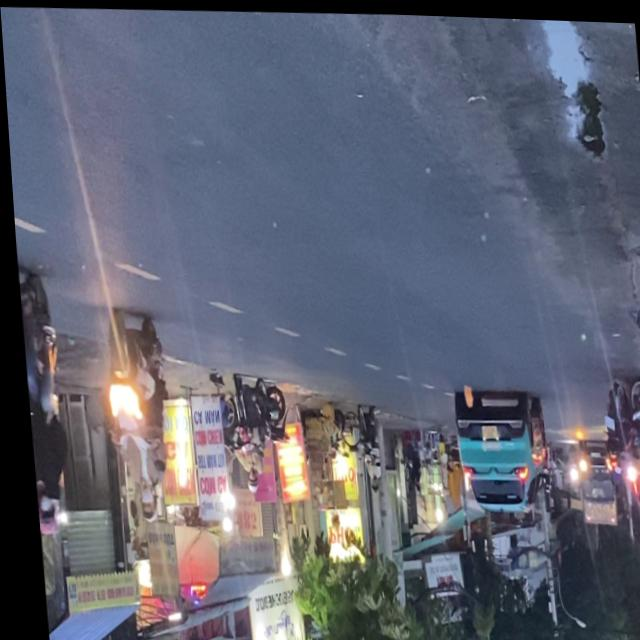helmet: (28, 482, 57, 537), (129, 481, 149, 523)
licenseplate: (91, 304, 172, 525), (13, 255, 69, 540)
